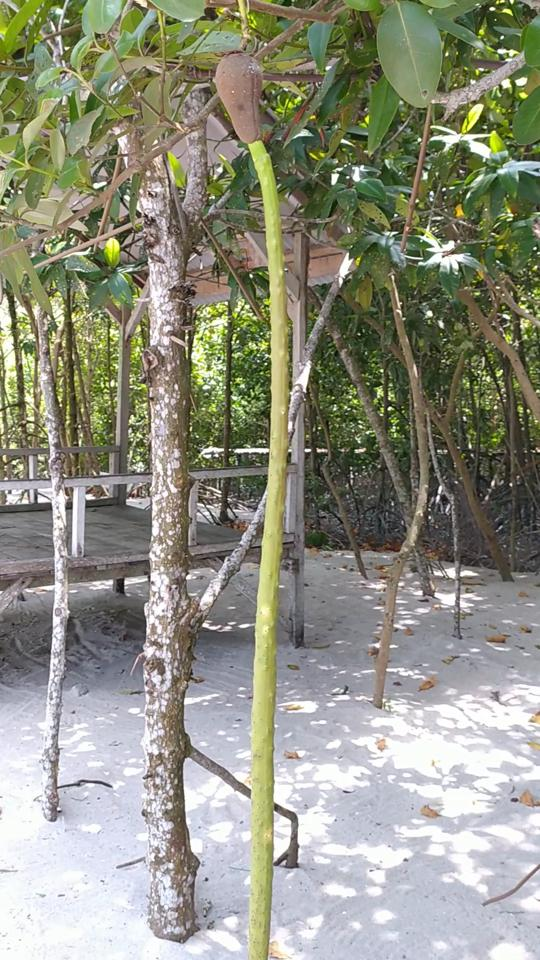mentah: (200, 38, 308, 955)
